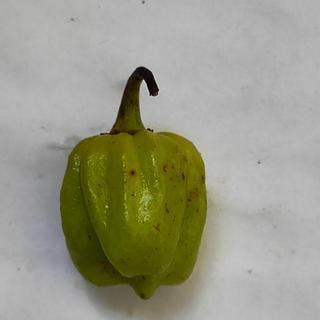Fly-bites: (175, 167, 192, 186), (180, 193, 199, 208), (199, 168, 211, 190), (163, 201, 175, 220), (81, 230, 96, 243), (125, 166, 138, 180), (190, 205, 205, 217), (158, 162, 171, 174)
